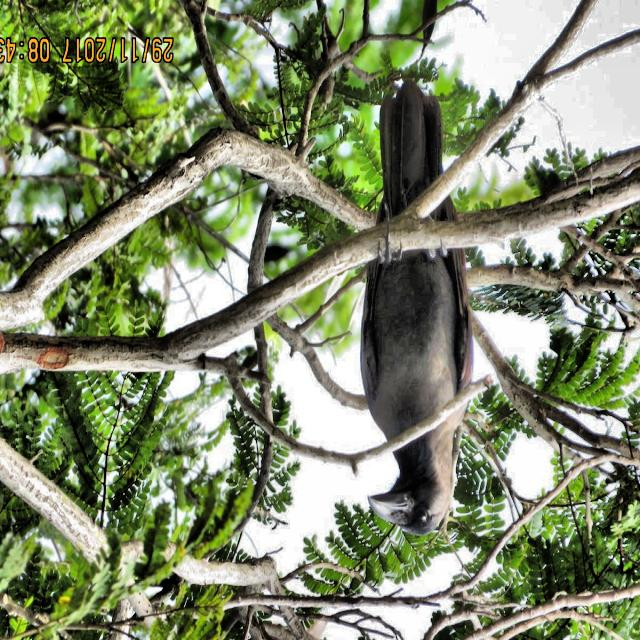crow: (348, 72, 504, 572)
